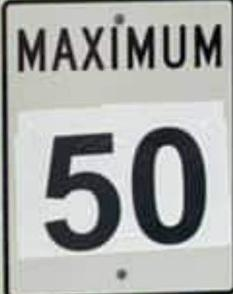Speed Limit -50-: (0, 1, 232, 293)
